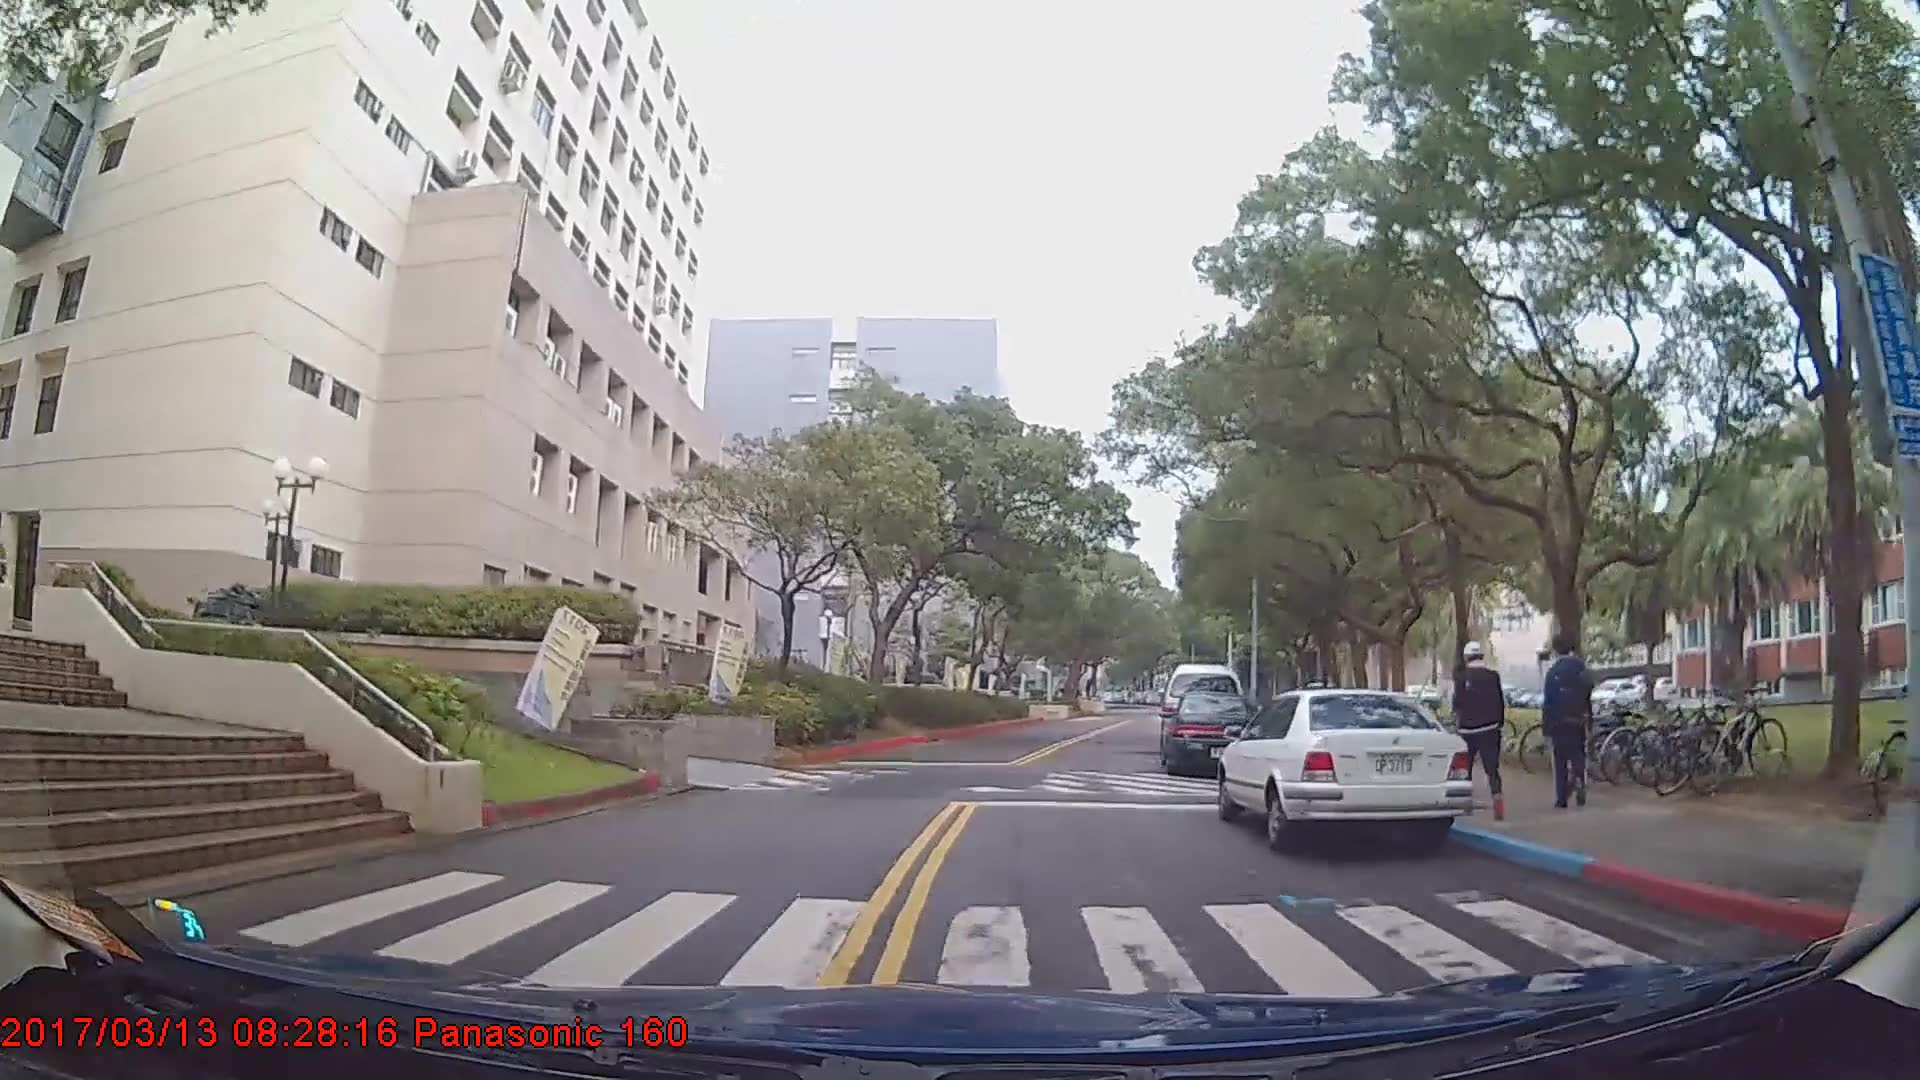pedestrian: (1544, 627, 1603, 812), (1454, 638, 1511, 810)
vehicle: (1217, 686, 1475, 854), (1163, 691, 1267, 776)
